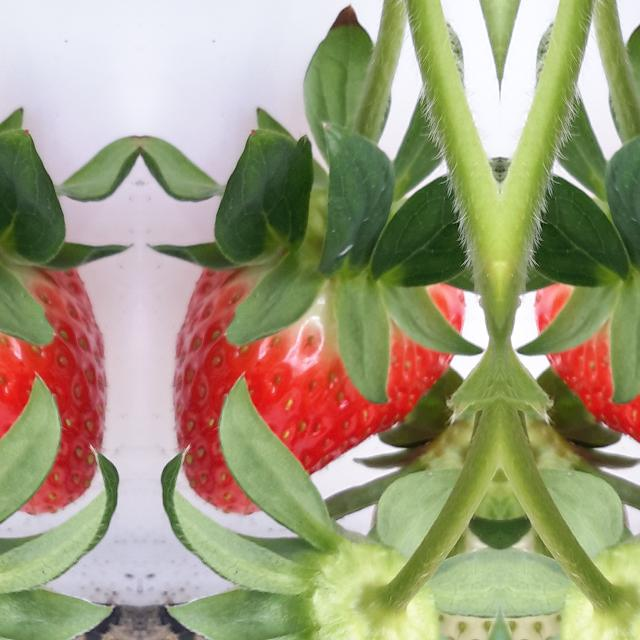Health_100: (172, 265, 464, 517), (0, 265, 108, 517), (536, 265, 640, 517)
